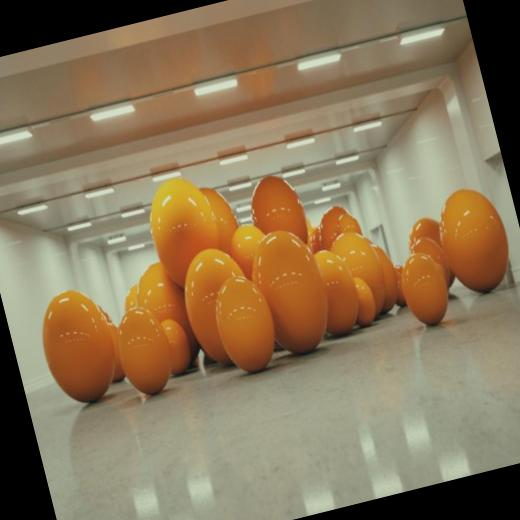Grape: (238, 222, 334, 355), (429, 180, 520, 300), (36, 286, 124, 410), (175, 241, 257, 364), (142, 174, 230, 288), (96, 309, 176, 403), (210, 276, 280, 370), (328, 227, 393, 322), (244, 171, 312, 254), (132, 262, 192, 345), (394, 251, 454, 333), (312, 246, 363, 335), (409, 213, 458, 289), (162, 317, 201, 388), (229, 217, 274, 278), (92, 300, 124, 382), (312, 198, 365, 246), (412, 226, 447, 288), (342, 280, 376, 322), (116, 288, 150, 321), (305, 232, 326, 260)
